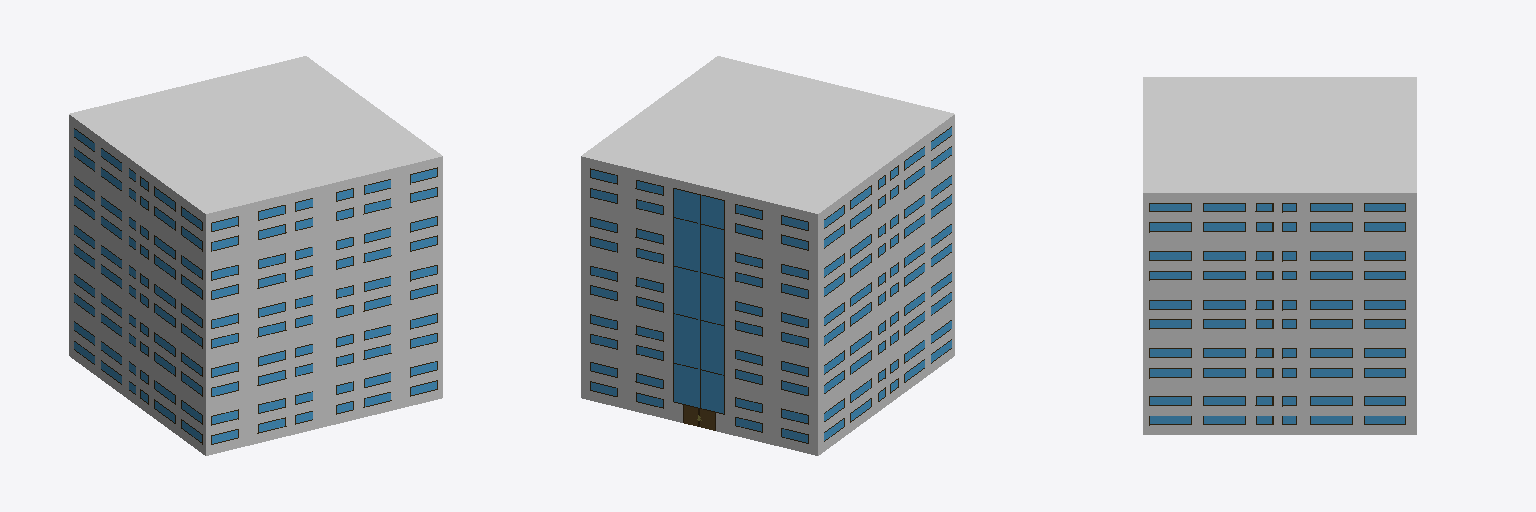
The picture shows the model from 3 angles: view 1: azimuth 30°, elevation 25°; view 2: azimuth 150°, elevation 25°; view 3: azimuth 270°, elevation 25°; orthographic projection.
Visible parts, largest first — view 1: Model; view 2: Model; view 3: Model.
Boxes of the visible parts, box(x1,y1,x2,y2) form: Model: box(69, 56, 442, 455); Model: box(581, 56, 954, 455); Model: box(1143, 77, 1416, 434).
Bounding box in the file's own units: 256 × 249 × 256.
Materials: 1 (1 with a texture image).